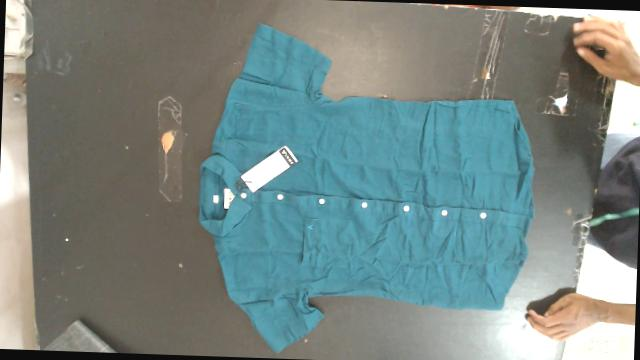new-garment: (199, 24, 534, 352)
